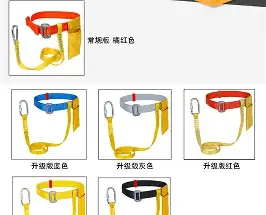safety belt2: (12, 7, 81, 75), (10, 87, 82, 152), (190, 85, 252, 159), (100, 91, 167, 158), (14, 177, 86, 213), (102, 181, 167, 213)
